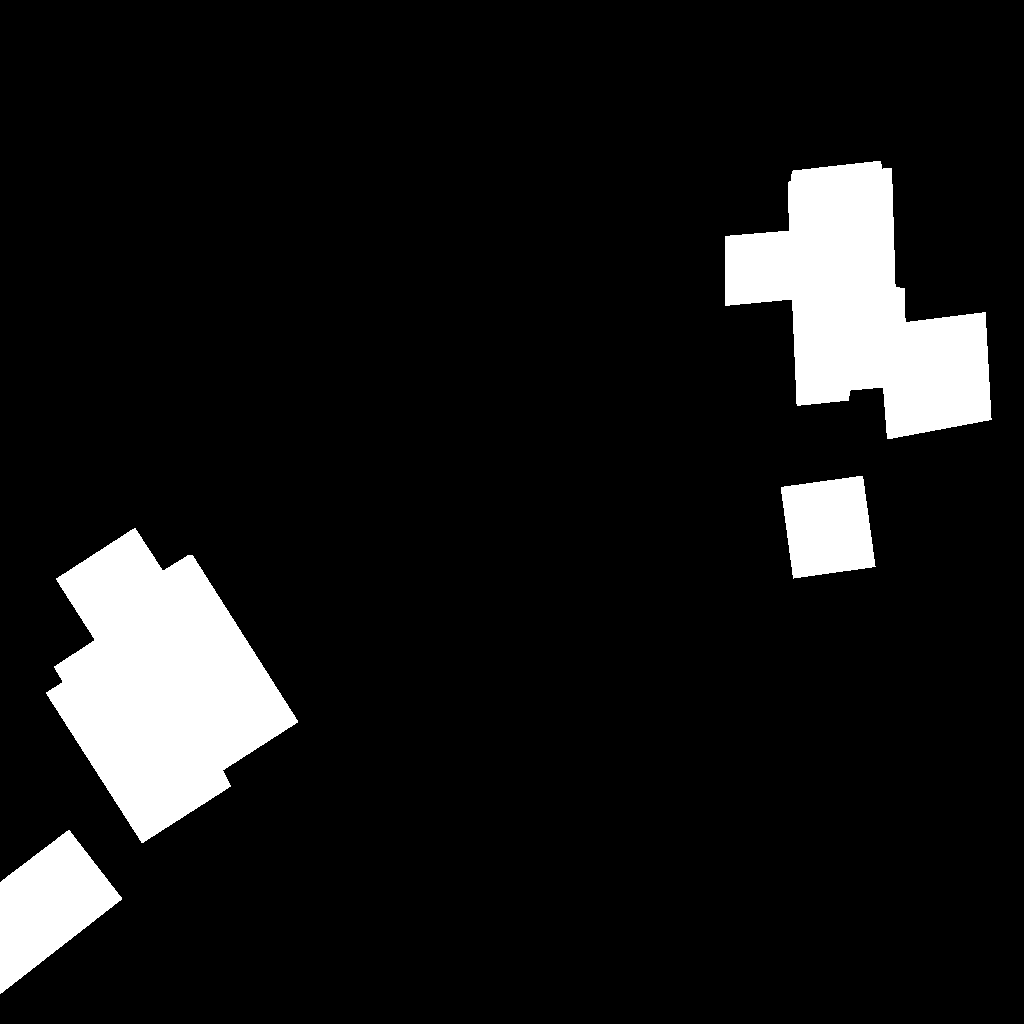building: (46, 528, 299, 844), (725, 161, 992, 440), (0, 830, 123, 995), (781, 476, 876, 579)
